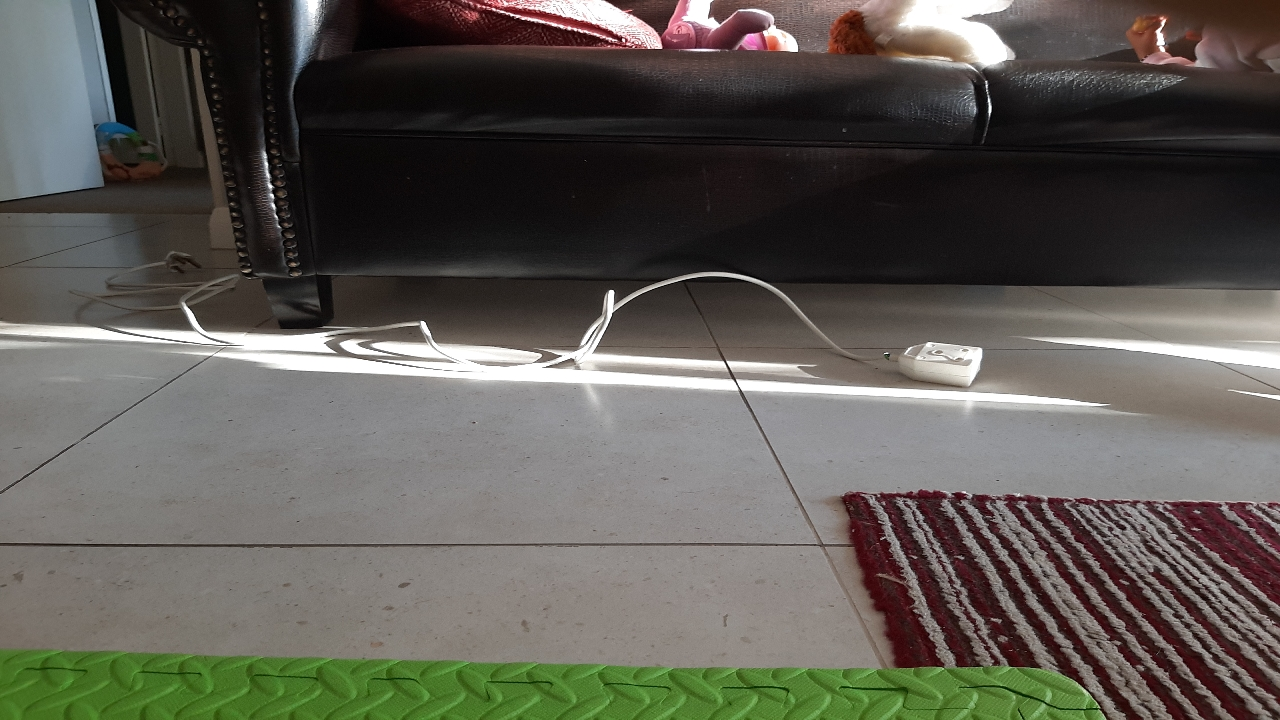cable: (363, 301, 1036, 419), (72, 244, 227, 365)
chair: (243, 270, 342, 327)
